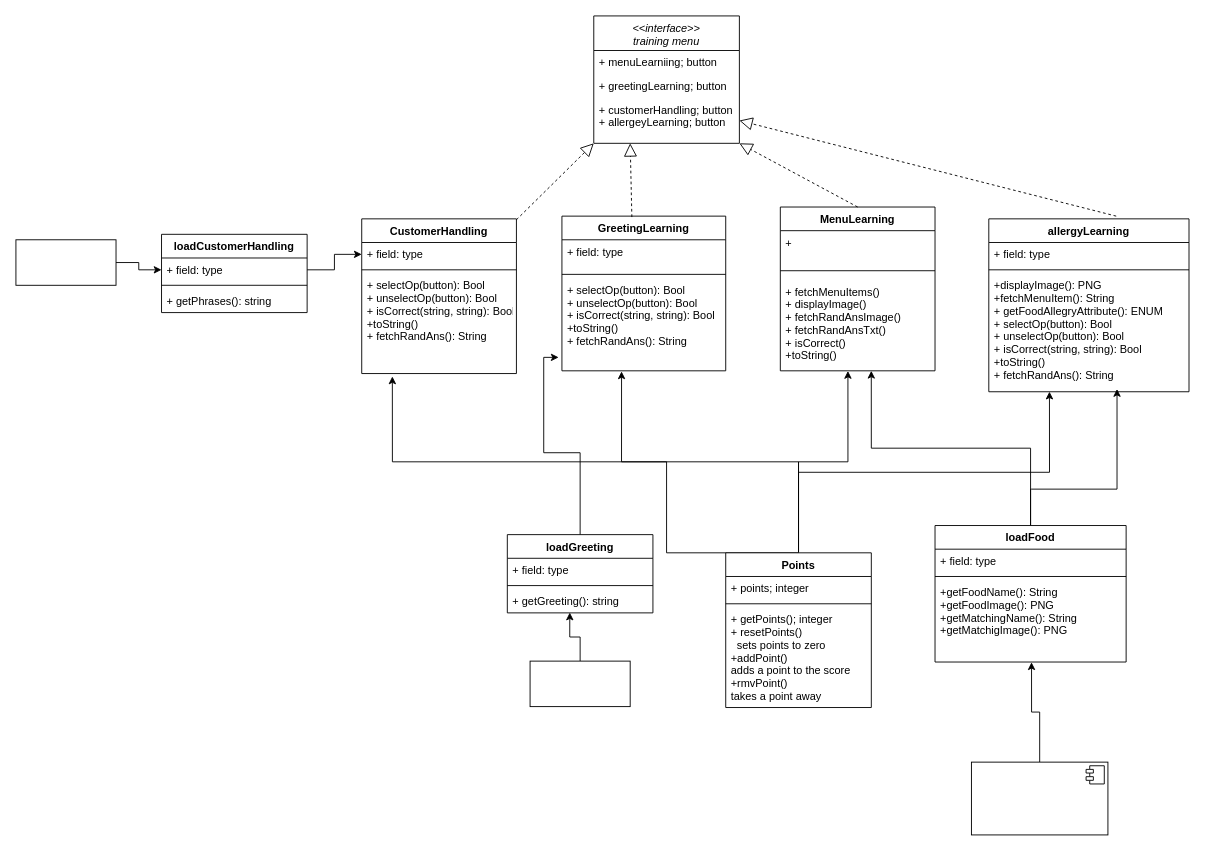
This 1206x851 diagram has some shape labels left out. The centre of each missing label's shape, as x and y in pixels:
"greeting" belongs at point 579,683.
"MenuItems + foodName: String + foodImage: PNG" belongs at point 1039,798.
"phrases" belongs at point 65,262.
